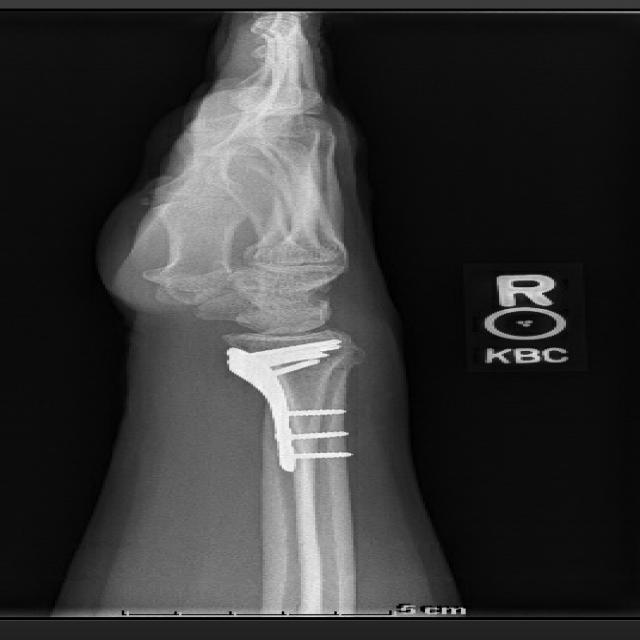x-ray: (191, 332, 382, 477)
